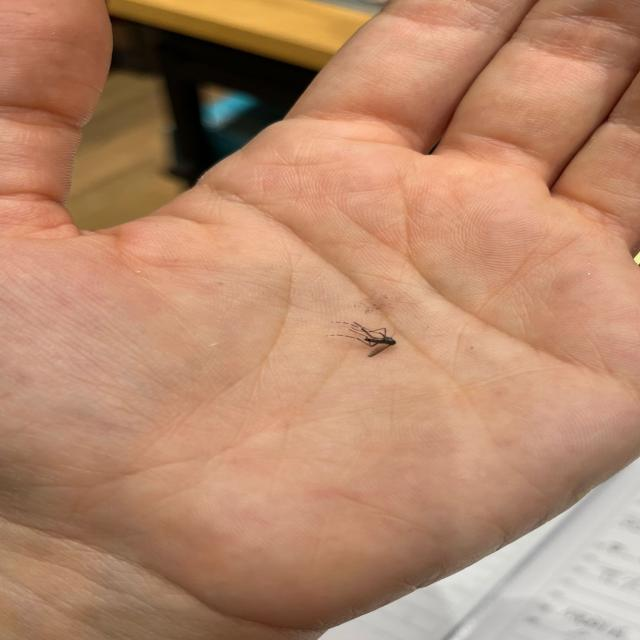albopictus: (322, 318, 399, 359)
